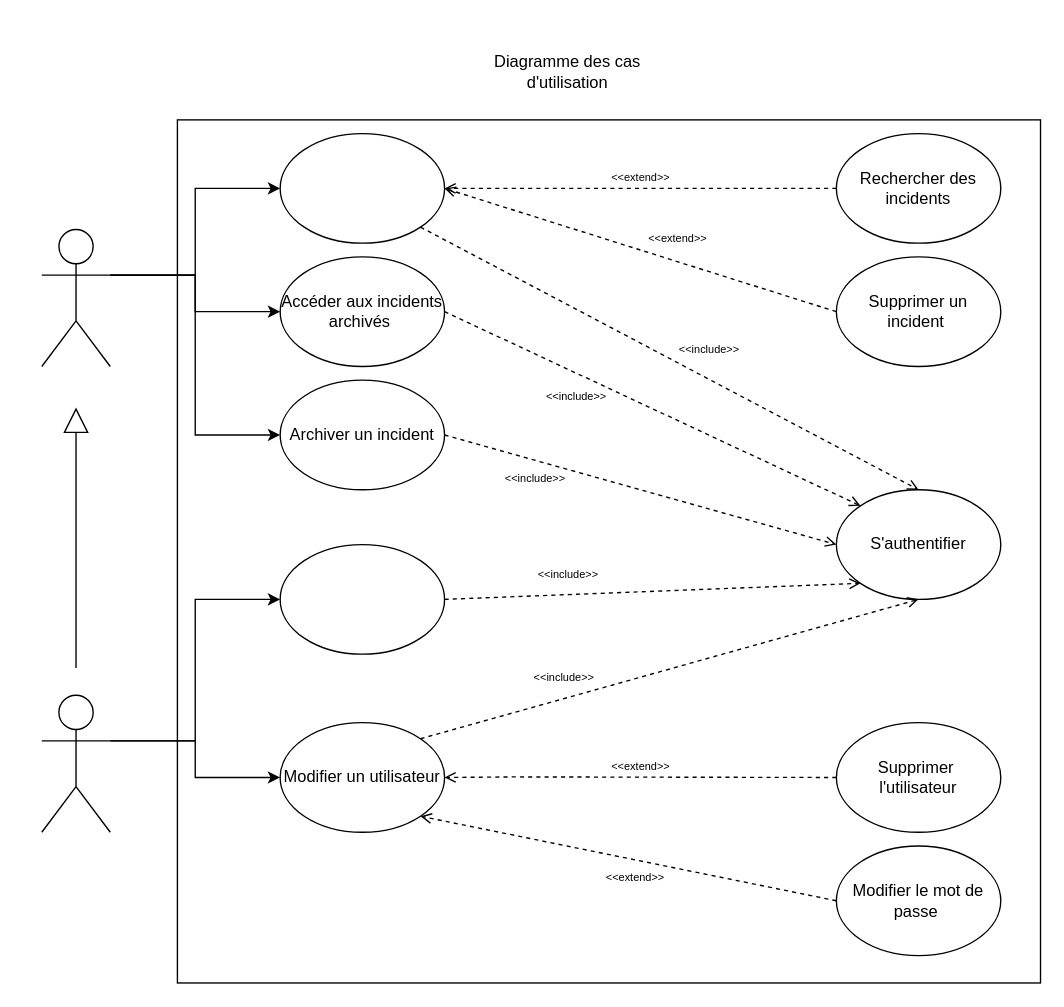
Image size: 1064x1007. Some labels were removed from this diagram. The box of each missing label's shape, as (x1, y1, x2, y2) in pixels:
Administrateur: (40, 694, 110, 832)
Ajouter des utilisateurs: (279, 543, 445, 654)
Gérer les incidents archivés: (279, 132, 445, 243)
Utilisateur: (40, 228, 110, 366)
